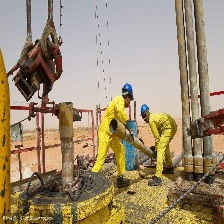helmet: (120, 82, 136, 102), (138, 101, 153, 122)
person: (91, 80, 138, 191), (136, 99, 181, 191)
vest: (100, 94, 131, 144), (150, 111, 178, 143)
